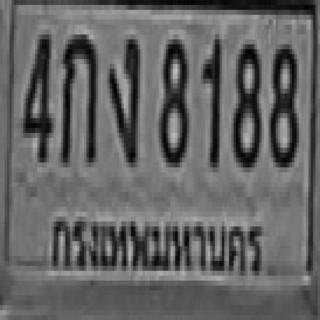A01: (58, 29, 96, 162)
A07: (108, 34, 138, 162)
N01: (201, 34, 220, 162)
N04: (21, 29, 49, 158)
N08: (157, 34, 187, 162), (269, 39, 297, 162), (231, 39, 259, 162)
P04: (44, 203, 268, 285)
